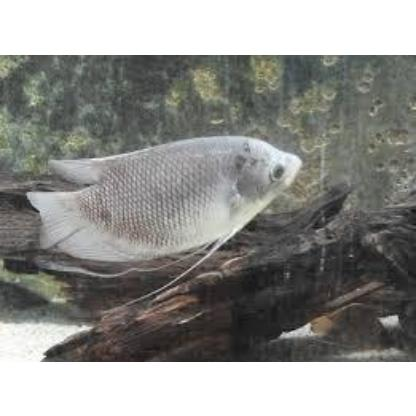gurame: (29, 140, 297, 270)
